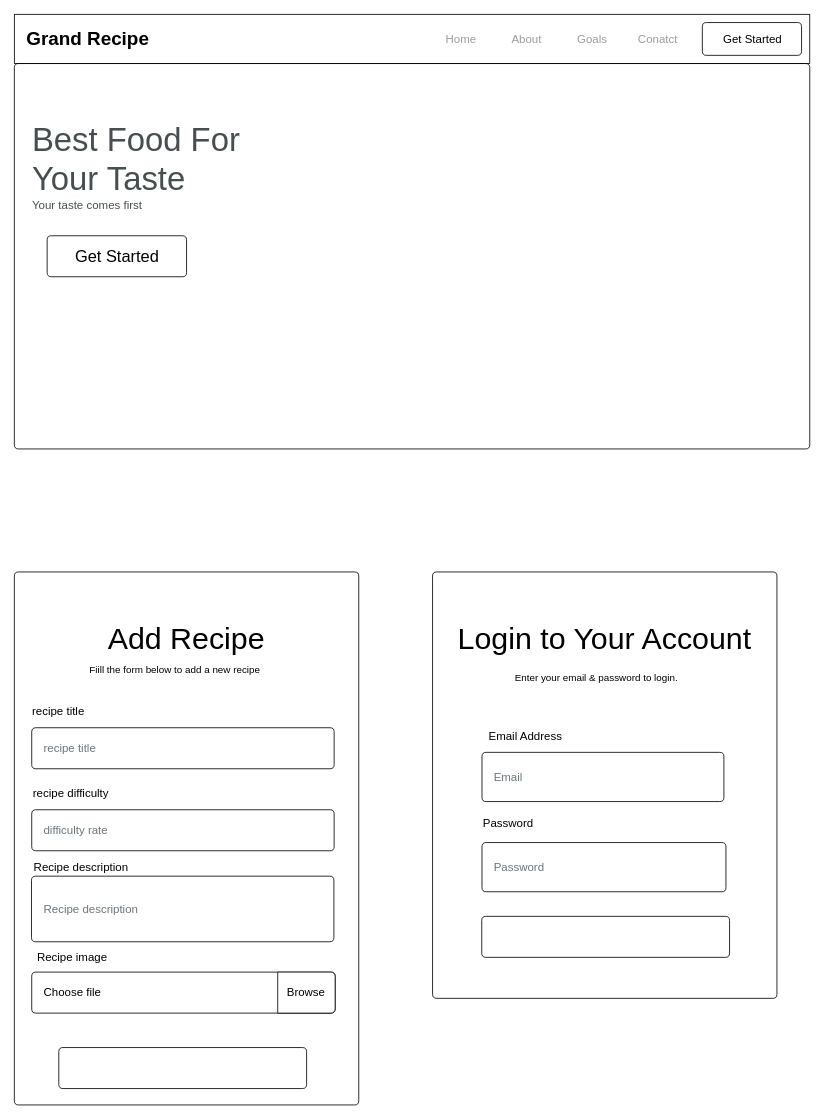
The diagram is 824 pixels wide and 1119 high, and some of its shapes have lost their labels. The centre of each missing label's shape, as x and y in pixels:
"Login" belongs at (x=605, y=936).
"Submit" belongs at (x=182, y=1068).
